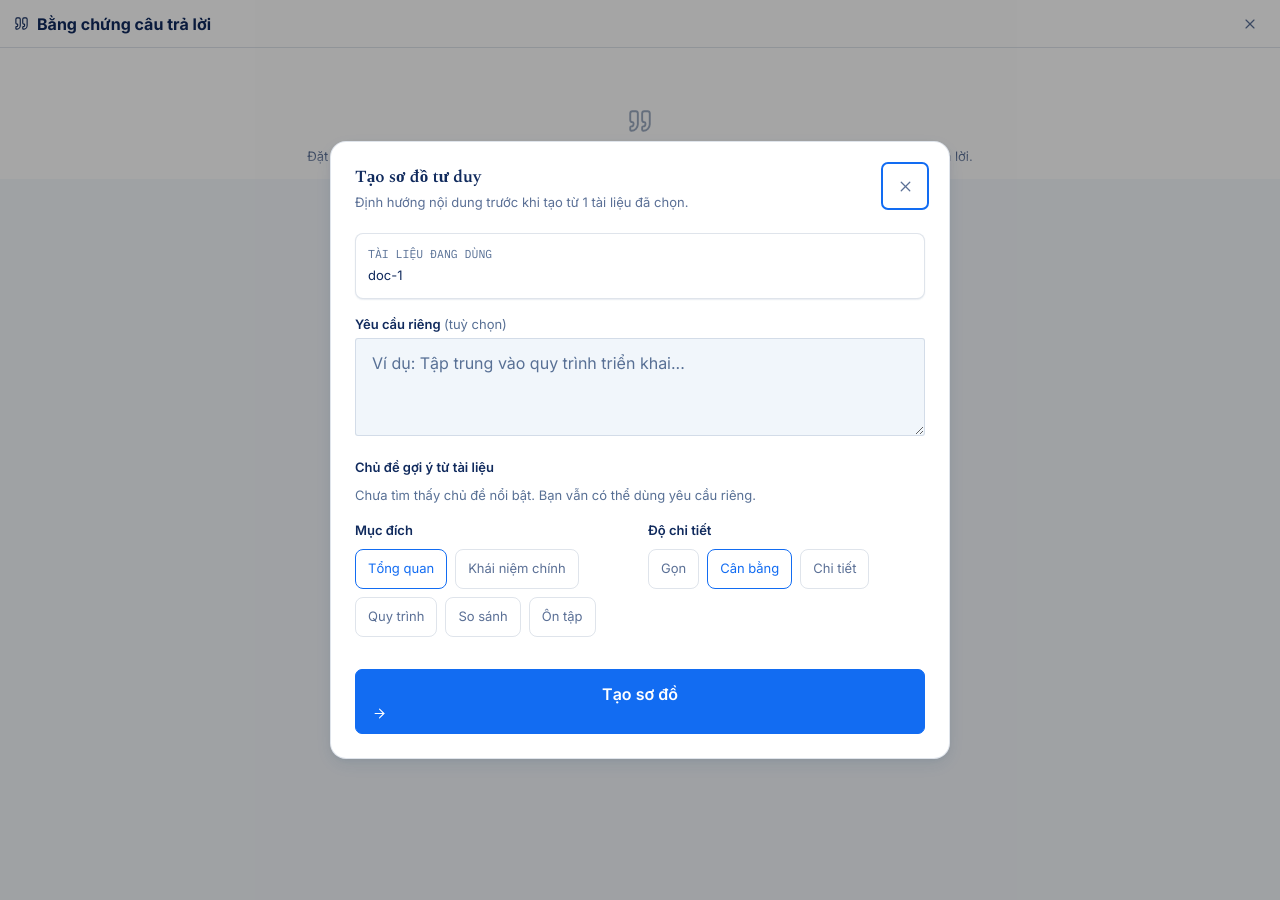
Test: Guided Mind Map dialog close timing › stays open on create failure and shows the error instead of vanishing
The width and height of the screenshot is (1280, 900).
Expected: the dialog is shown, [330,141,950,759]
Click the submit button: click(640, 701) [355,669,925,734]
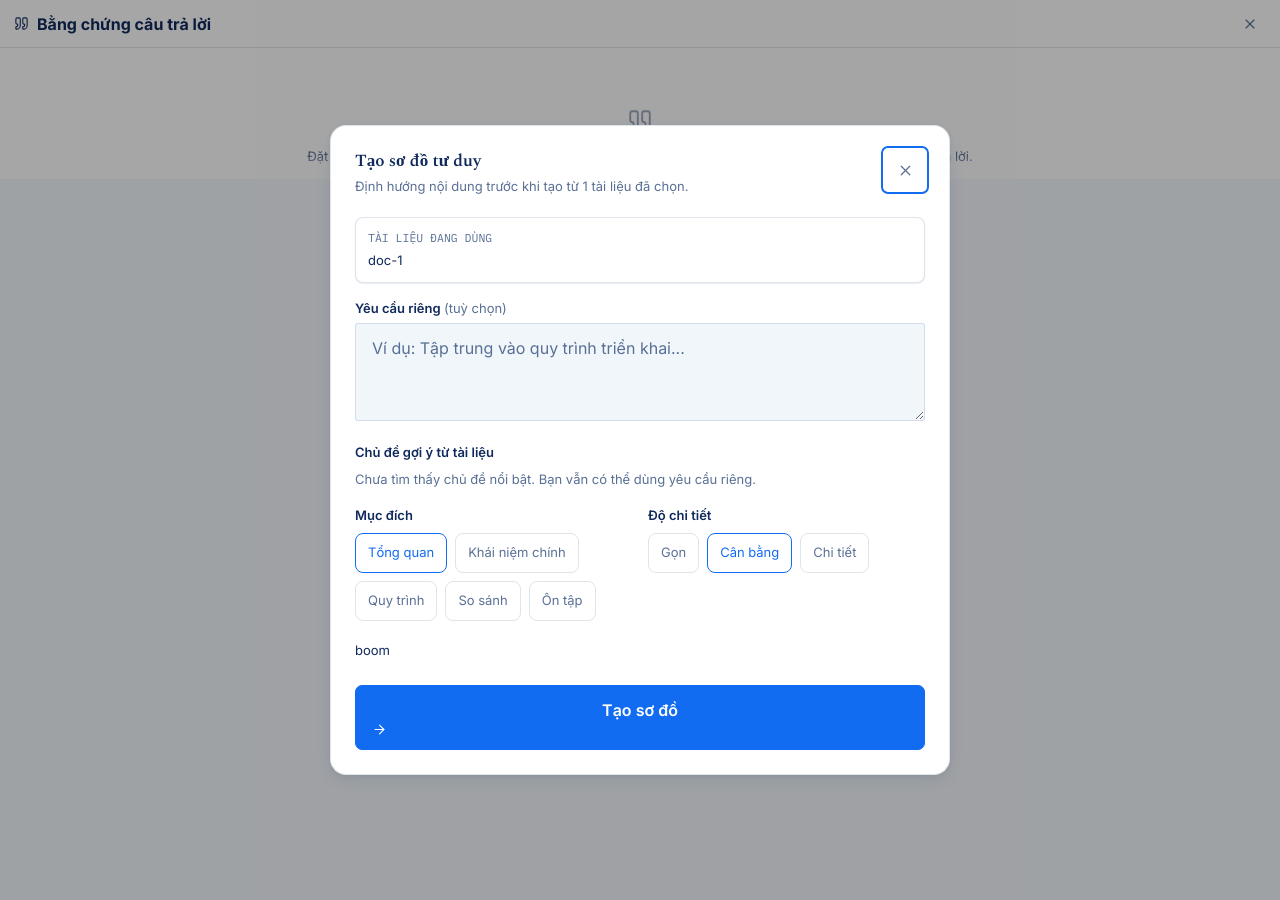
Expected: the dialog is shown, [330,125,950,774]
Expected: the text "boom" is shown, [355,642,390,658]
